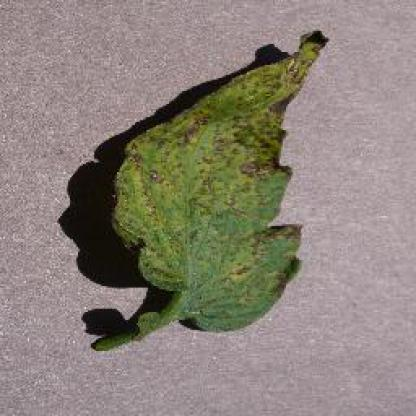bad leaf: (120, 40, 328, 252)
